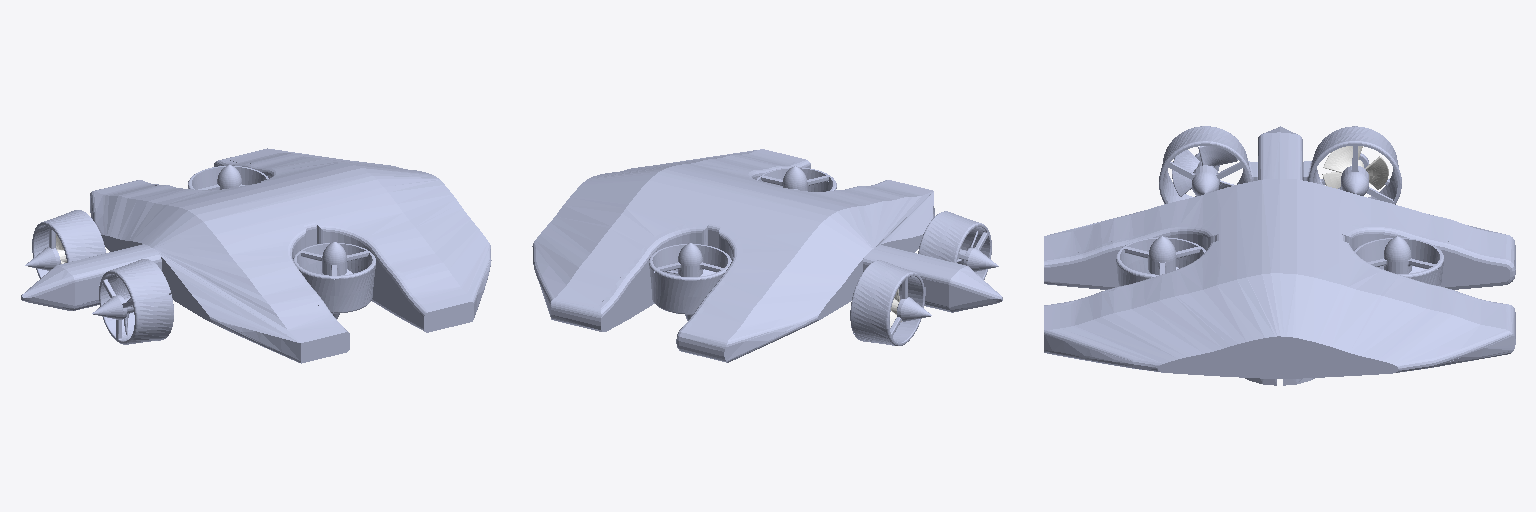
robot.urdf — auv_thesis:
<?xml version="1.0" encoding="utf-8"?>
<!-- This URDF was automatically created by SolidWorks to URDF Exporter! Originally created by [author] ([email redacted]) 
     Commit Version: 1.6.0-1-g15f4949  Build Version: 1.6.7594.29634
     For more information, please see http://wiki.ros.org/sw_urdf_exporter -->
<robot
  name="auv_thesis">
  <link
    name="base_link">
    <inertial>
      <origin
        xyz="0.0586155279728753 -0.0002778337208037 -0.0527335438287524"
        rpy="0 0 0" />
      <mass
        value="3.75925971759131" />
      <inertia
        ixx="0.0324715328848579"
        ixy="-0.000206513851360736"
        ixz="0.000147805781710082"
        iyy="0.0465919583736919"
        iyz="-2.14143696241248E-05"
        izz="0.0753795874759094" />
    </inertial>
    <visual>
      <origin
        xyz="0 0 0"
        rpy="0 0 0" />
      <geometry>
        <mesh
          filename="package://auv_thesis/meshes/base_link.STL" />
      </geometry>
      <material
        name="">
        <color
          rgba="0.792156862745098 0.819607843137255 0.933333333333333 1" />
      </material>
    </visual>
    <collision>
      <origin
        xyz="0 0 0"
        rpy="0 0 0" />
      <geometry>
        <mesh
          filename="package://auv_thesis/meshes/base_link.STL" />
      </geometry>
    </collision>
  </link>
  <link
    name="v_r">
    <inertial>
      <origin
        xyz="-6.3371E-05 3.8911E-08 -0.012"
        rpy="0 0 0" />
      <mass
        value="0.0083623" />
      <inertia
        ixx="1.4721E-06"
        ixy="1.992E-12"
        ixz="4.2767E-09"
        iyy="1.4721E-06"
        iyz="-6.5919E-13"
        izz="2.2826E-06" />
    </inertial>
    <visual>
      <origin
        xyz="0 0 0"
        rpy="0 0 0" />
      <geometry>
        <mesh
          filename="package://auv_thesis/meshes/v_r.STL" />
      </geometry>
      <material
        name="">
        <color
          rgba="0.79216 0.81961 0.93333 1" />
      </material>
    </visual>
    <collision>
      <origin
        xyz="0 0 0"
        rpy="0 0 0" />
      <geometry>
        <mesh
          filename="package://auv_thesis/meshes/v_r.STL" />
      </geometry>
    </collision>
  </link>
  <joint
    name="v_ri"
    type="continuous">
    <origin
      xyz="0.059956 -0.10498 -0.043412"
      rpy="0 0 0" />
    <parent
      link="base_link" />
    <child
      link="v_r" />
    <axis
      xyz="-0.0052792 0 -0.99999" />
  </joint>
  <link
    name="v_l">
    <inertial>
      <origin
        xyz="6.33711607749277E-05 -3.89105577203175E-08 -0.0119997917971006"
        rpy="0 0 0" />
      <mass
        value="0.00836226850056704" />
      <inertia
        ixx="1.47207470853917E-06"
        ixy="1.99198843121598E-12"
        ixz="-4.27668148605737E-09"
        iyy="1.47207951712747E-06"
        iyz="6.59190877690808E-13"
        izz="2.28264110425923E-06" />
    </inertial>
    <visual>
      <origin
        xyz="0 0 0"
        rpy="0 0 0" />
      <geometry>
        <mesh
          filename="package://auv_thesis/meshes/v_l.STL" />
      </geometry>
      <material
        name="">
        <color
          rgba="0.792156862745098 0.819607843137255 0.933333333333333 1" />
      </material>
    </visual>
    <collision>
      <origin
        xyz="0 0 0"
        rpy="0 0 0" />
      <geometry>
        <mesh
          filename="package://auv_thesis/meshes/v_l.STL" />
      </geometry>
    </collision>
  </link>
  <joint
    name="v_le"
    type="continuous">
    <origin
      xyz="0.060044 0.10464 -0.043412"
      rpy="0 0 0" />
    <parent
      link="base_link" />
    <child
      link="v_l" />
    <axis
      xyz="-0.0052792 0 0.99999" />
  </joint>
  <link
    name="h_r">
    <inertial>
      <origin
        xyz="-0.0119997917971007 3.8910558275429E-08 6.33711607753717E-05"
        rpy="0 0 0" />
      <mass
        value="0.00836226850056714" />
      <inertia
        ixx="2.28264110425927E-06"
        ixy="-6.59190884392082E-13"
        ixz="-4.27668148604112E-09"
        iyy="1.47207951712749E-06"
        iyz="-1.99198844959993E-12"
        izz="1.47207470853921E-06" />
    </inertial>
    <visual>
      <origin
        xyz="0 0 0"
        rpy="0 0 0" />
      <geometry>
        <mesh
          filename="package://auv_thesis/meshes/h_r.STL" />
      </geometry>
      <material
        name="">
        <color
          rgba="0.792156862745098 0.819607843137255 0.933333333333333 1" />
      </material>
    </visual>
    <collision>
      <origin
        xyz="0 0 0"
        rpy="0 0 0" />
      <geometry>
        <mesh
          filename="package://auv_thesis/meshes/h_r.STL" />
      </geometry>
    </collision>
  </link>
  <joint
    name="h_ri"
    type="continuous">
    <origin
      xyz="-0.1393 -0.066548 -0.045654"
      rpy="0 0 0" />
    <parent
      link="base_link" />
    <child
      link="h_r" />
    <axis
      xyz="0.99999 0 -0.0052792" />
  </joint>
  <link
    name="h_l">
    <inertial>
      <origin
        xyz="0 0 0"
        rpy="0 0 0" />
      <mass
        value="0" />
      <inertia
        ixx="0"
        ixy="0"
        ixz="0"
        iyy="0"
        iyz="0"
        izz="0" />
    </inertial>
    <visual>
      <origin
        xyz="0 0 0"
        rpy="0 0 0" />
      <geometry>
        <mesh
          filename="package://auv_thesis/meshes/h_l.STL" />
      </geometry>
      <material
        name="">
        <color
          rgba="1 1 1 1" />
      </material>
    </visual>
    <collision>
      <origin
        xyz="0 0 0"
        rpy="0 0 0" />
      <geometry>
        <mesh
          filename="package://auv_thesis/meshes/h_l.STL" />
      </geometry>
    </collision>
  </link>
  <joint
    name="h_le"
    type="continuous">
    <origin
      xyz="-0.139299559645515 0.0669030275074937 -0.0457412172900467"
      rpy="0 0 0" />
    <parent
      link="base_link" />
    <child
      link="h_l" />
    <axis
      xyz="0.999986064874679 0 0.00527920983233712" />
  </joint>
</robot>

--- Facts derived from the render (not from the file) ---
3 views of the same robot in one strip: view 1: azimuth 30°, elevation 25°; view 2: azimuth 150°, elevation 25°; view 3: azimuth 270°, elevation 25° (orthographic).
Model auv_thesis with 5 links and 4 joints (4 continuous), rooted at base_link, posed every joint at zero.
Visible links, largest first — view 1: base_link; view 2: base_link; view 3: base_link, h_l, h_r.
Link boxes in pixels (x1,y1,x2,y2): base_link: (21,148,491,363); base_link: (532,149,1002,362); base_link: (1044,126,1515,385); h_l: (1322,146,1388,189); h_r: (1172,146,1237,196).
Size in the robot's own frame: 0.4818 by 0.42 by 0.1024 metres.
Meshes: 5 distinct files referenced, 5 mesh visuals loaded (5 binary STL).
